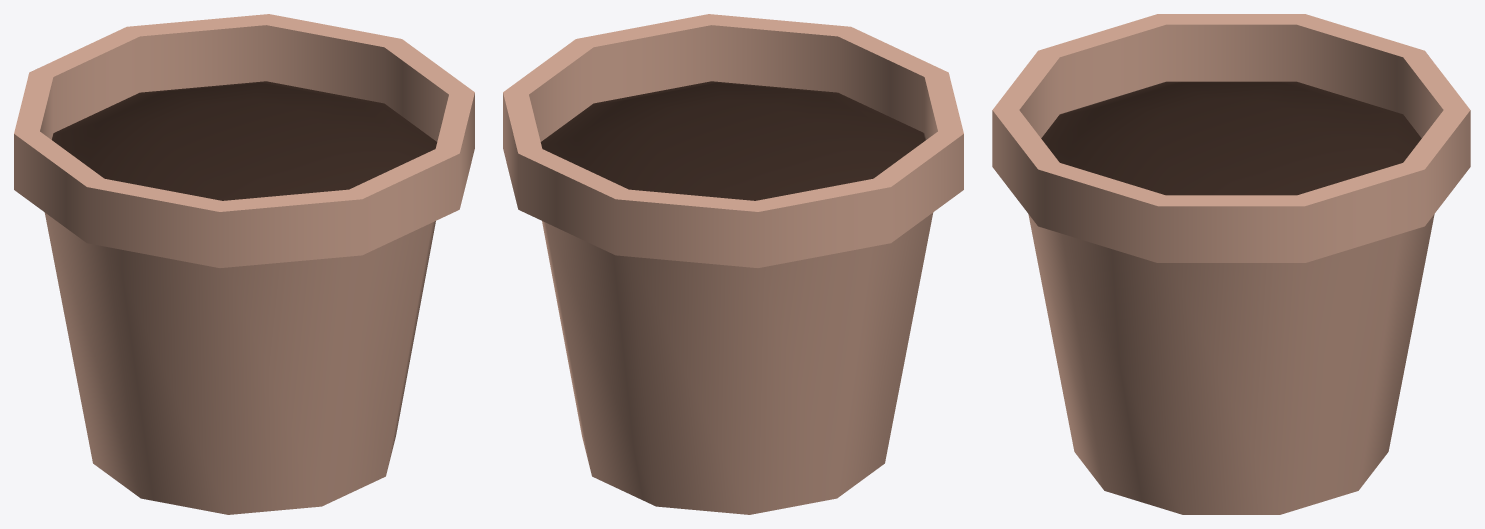
Rendered from furniture_garden_210043.glb.
The picture shows the model from 3 angles, left to right: view 1: azimuth 30°, elevation 25°; view 2: azimuth 150°, elevation 25°; view 3: azimuth 270°, elevation 25°; orthographic projection.
Parts seen in each view (by area): view 1: furniture_garden_210043; view 2: furniture_garden_210043; view 3: furniture_garden_210043.
Boxes of the visible parts, x1,y1,x2,y2 form: furniture_garden_210043: [14, 14, 474, 514]; furniture_garden_210043: [503, 14, 963, 514]; furniture_garden_210043: [992, 14, 1470, 514].
Bounding box in the file's own units: 0.4341 × 0.36 × 0.4564.
Materials: 1 (1 with a texture image).
